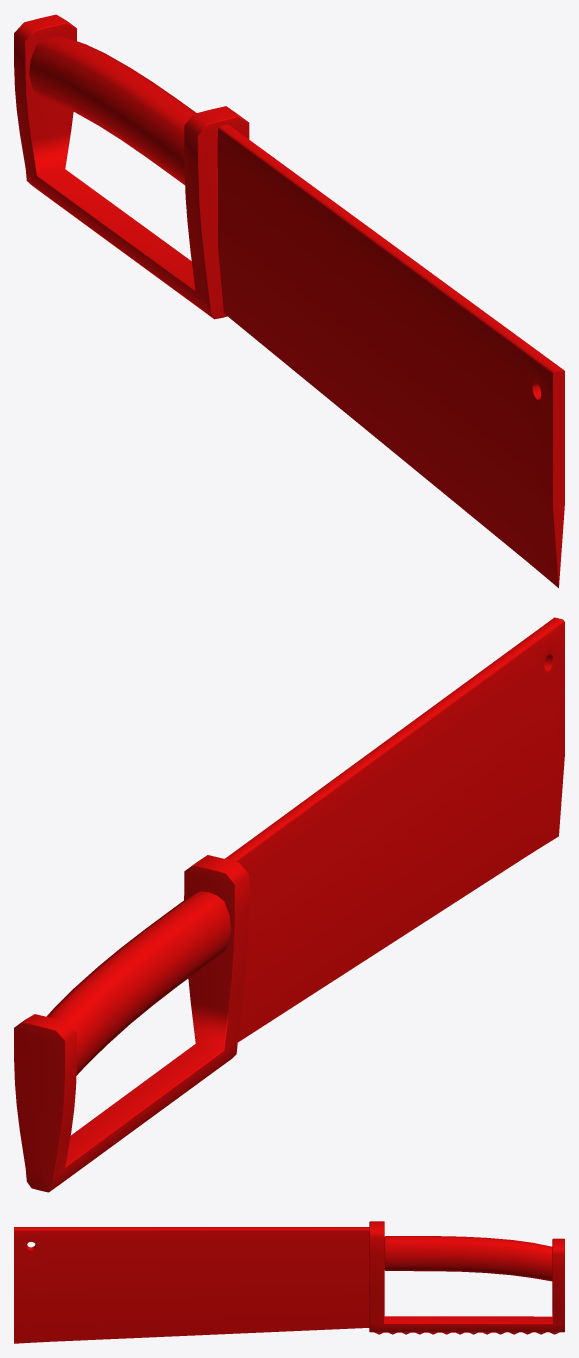
The model's file is knife_cleaver_01_low 1.fbx.
3 views of the same model, one above another, from view 1: azimuth 30°, elevation 25°; view 2: azimuth 150°, elevation 25°; view 3: azimuth 270°, elevation 25° (orthographic). The views are drawn at different scales.
Visible parts, largest first — view 1: knife_cleaver_01_blade_low, knife_cleaver_01_guard_low, knife_cleaver_01_handle_low; view 2: knife_cleaver_01_blade_low, knife_cleaver_01_guard_low, knife_cleaver_01_handle_low; view 3: knife_cleaver_01_blade_low, knife_cleaver_01_handle_low, knife_cleaver_01_guard_low, knife_cleaver_01_rivets_low.
Boxes of the visible parts, x1,y1,x2,y2 form: knife_cleaver_01_blade_low: (217,124,564,587); knife_cleaver_01_guard_low: (14,14,249,319); knife_cleaver_01_handle_low: (29,36,196,184); knife_cleaver_01_blade_low: (225,617,564,1042); knife_cleaver_01_guard_low: (14,855,249,1192); knife_cleaver_01_handle_low: (47,891,231,1075); knife_cleaver_01_blade_low: (14,1227,369,1343); knife_cleaver_01_handle_low: (384,1236,552,1281); knife_cleaver_01_guard_low: (369,1221,564,1332); knife_cleaver_01_rivets_low: (374,1332,559,1334).
Bounding box in the file's own units: 2.14 × 8.72 × 36.75.
